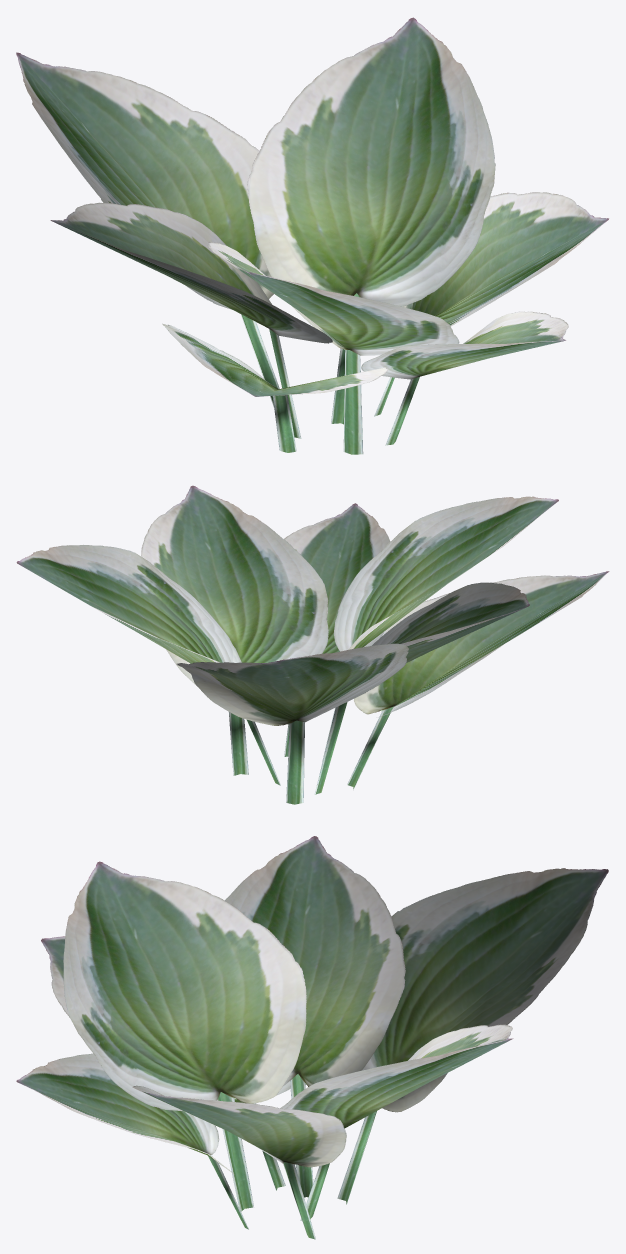
Rendered from plant_small_wg_04E.fbx.
3 views of the same model, one above another, from view 1: azimuth 30°, elevation 25°; view 2: azimuth 150°, elevation 25°; view 3: azimuth 270°, elevation 25° (orthographic). The views are drawn at different scales.
Parts seen in each view (by area): view 1: plant_small_wg_04E; view 2: plant_small_wg_04E; view 3: plant_small_wg_04E.
Boxes of the visible parts, box(x1,y1,x2,y2) form: plant_small_wg_04E: box(16, 17, 608, 454); plant_small_wg_04E: box(16, 485, 609, 804); plant_small_wg_04E: box(16, 836, 608, 1239).
Size of the model in its own units: 120 by 70.42 by 138.
